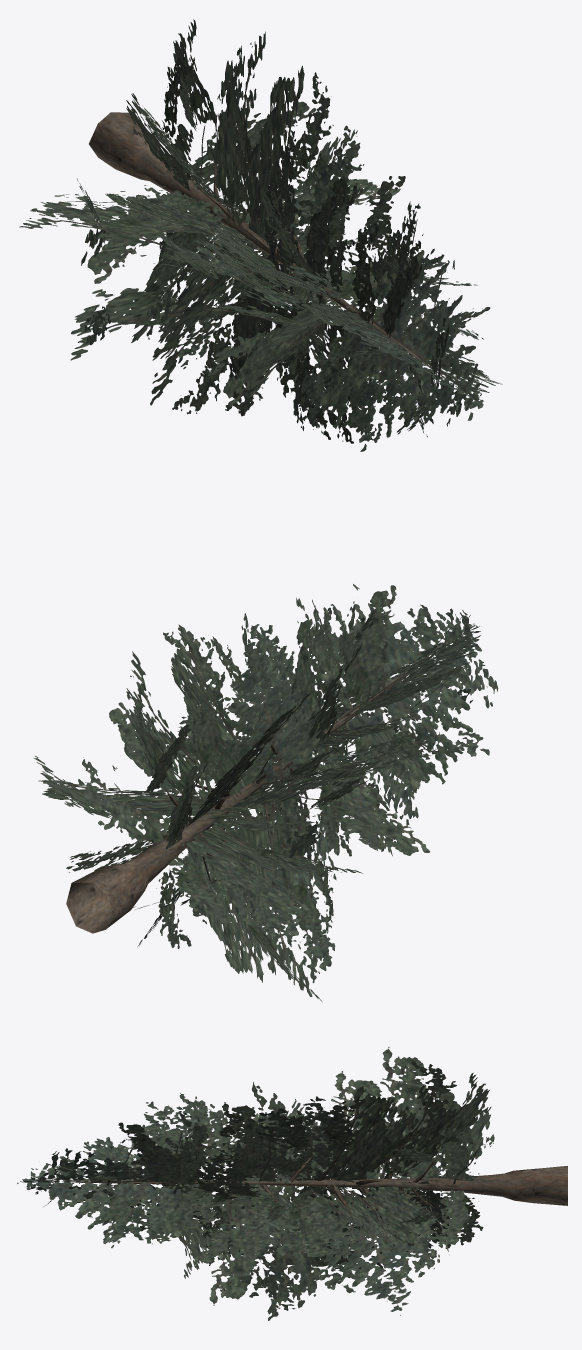
File: tree_3d_01.obj
3 renders of one model, top to bottom at view 1: azimuth 30°, elevation 25°; view 2: azimuth 150°, elevation 25°; view 3: azimuth 270°, elevation 25°, orthographic. The views are drawn at different scales.
Parts seen in each view (by area): view 1: tree_3d_01; view 2: tree_3d_01; view 3: tree_3d_01.
Boxes of the visible parts, left/top/right/bottom form: tree_3d_01: left=19, top=19, right=502, bottom=451; tree_3d_01: left=33, top=584, right=498, bottom=1002; tree_3d_01: left=17, top=1047, right=567, bottom=1320.
Size of the model in its own units: 5.91 by 5.46 by 10.34.
1 material, 1 textured.
